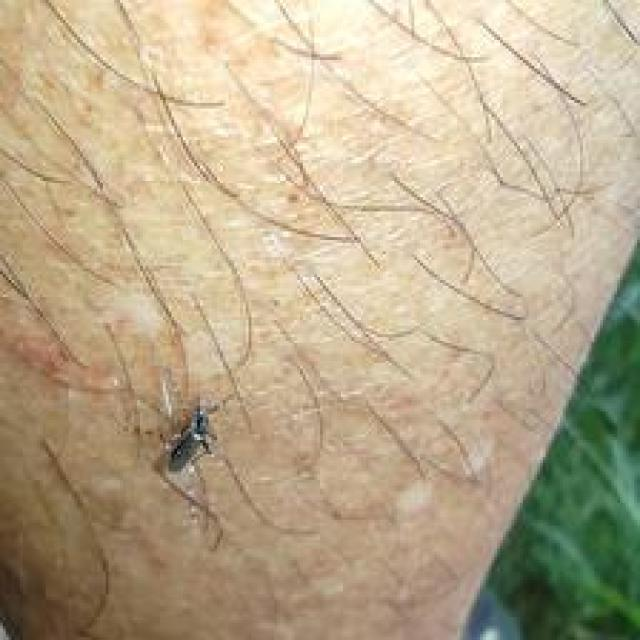Aedes albopictus: (164, 397, 222, 477)
